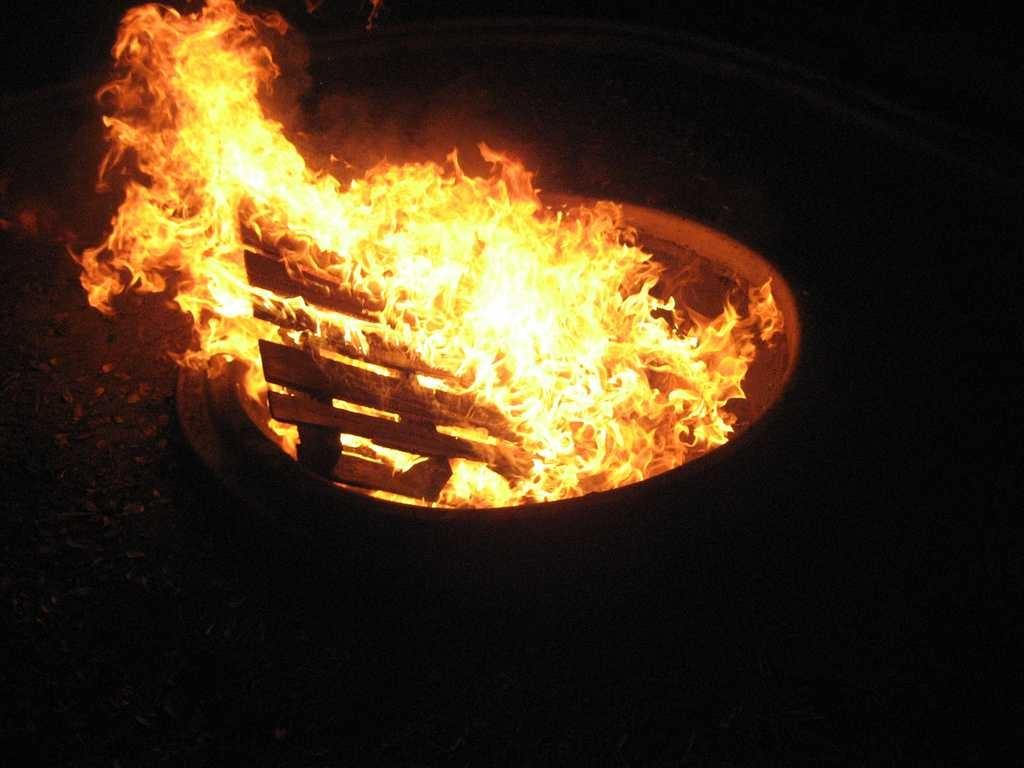fire: (448, 220, 620, 410), (138, 20, 268, 184), (262, 192, 408, 234)
